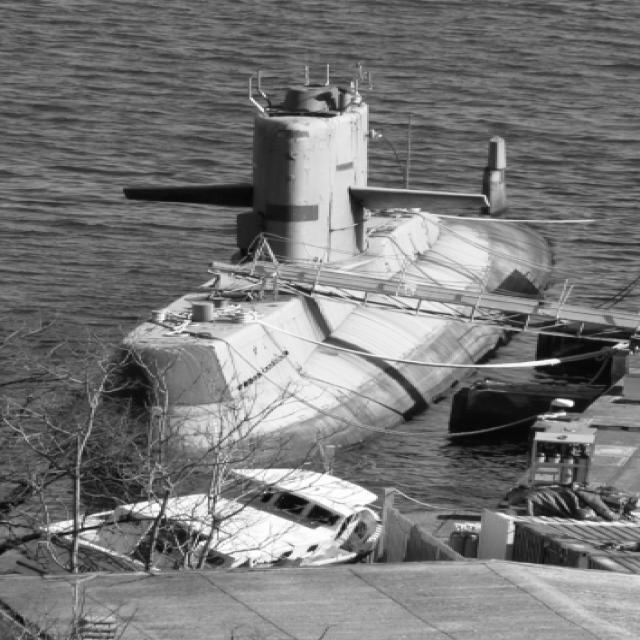submarine: (66, 42, 565, 513)
